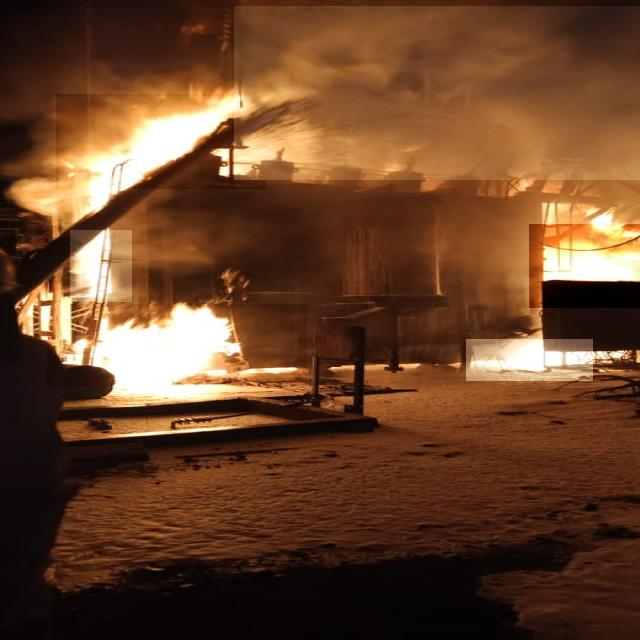Fire: (48, 304, 308, 387), (56, 94, 266, 189), (529, 224, 640, 308), (466, 339, 593, 381), (70, 230, 132, 302)
Smoke: (234, 6, 640, 180)
